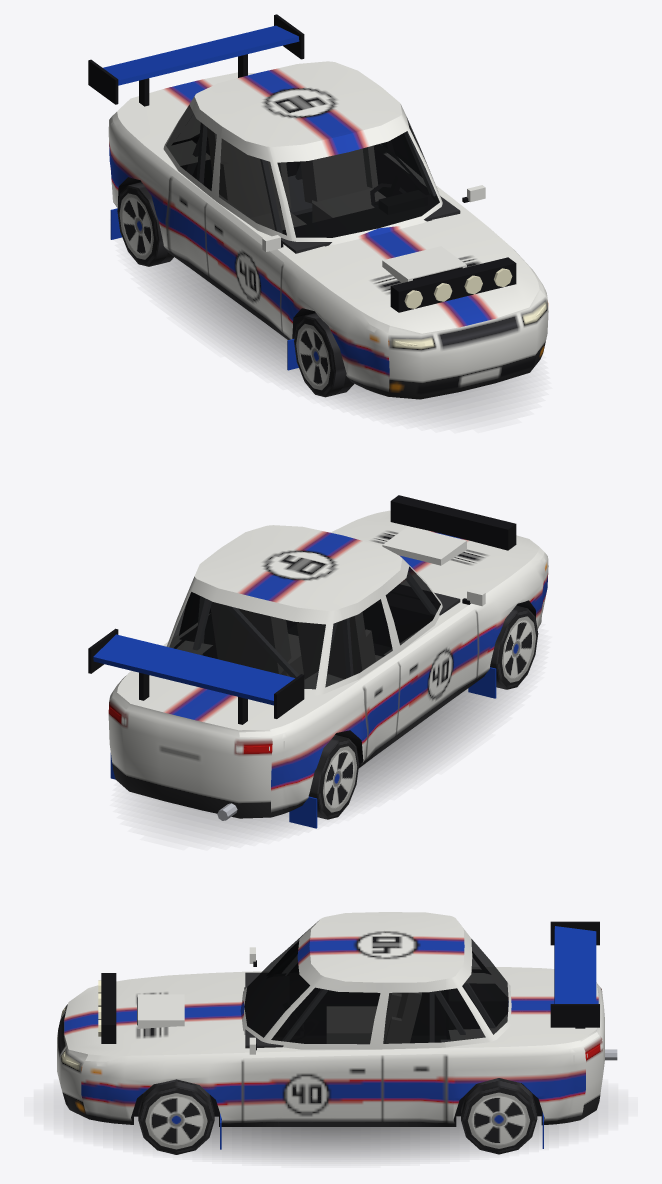
The model's file is relampago.glb.
3 views of the same model, one above another, from view 1: azimuth 30°, elevation 25°; view 2: azimuth 150°, elevation 25°; view 3: azimuth 270°, elevation 25° (orthographic). The views are drawn at different scales.
Parts seen in each view (by area): view 1: Carroceria, Capo_malha, Interior, Porta_D_malha, Sombra, Tampa_malha, Porta_TD_malha, Roda_DD, Roda_TD, Porta_E_malha; view 2: Carroceria, Interior, Tampa_malha, Capo_malha, Porta_D_malha, Sombra, Porta_TD_malha, Roda_TD, Roda_DD; view 3: Carroceria, Porta_E_malha, Interior, Capo_malha, Sombra, Porta_TE_malha, Tampa_malha, Roda_TE, Roda_DE, Porta_D_malha.
Part boxes in pixels (x1,y1,x2,y2): Carroceria: (88,14,548,399); Capo_malha: (302,220,544,333); Interior: (172,123,460,253); Porta_D_malha: (205,127,291,330); Sombra: (147,257,523,417); Tampa_malha: (103,25,299,137); Porta_TD_malha: (167,99,222,273); Roda_DD: (294,313,353,397); Roda_TD: (117,182,173,266); Porta_E_malha: (391,104,485,203); Carroceria: (88,519,548,828); Interior: (174,571,460,678); Tampa_malha: (93,634,310,737); Capo_malha: (335,495,544,594); Porta_D_malha: (382,558,485,732); Sombra: (139,687,513,835); Porta_TD_malha: (339,586,399,758); Roda_TD: (308,735,359,819); Roda_DD: (490,605,538,689); Carroceria: (57,912,617,1149); Porta_E_malha: (243,976,382,1120); Interior: (142,950,507,1093); Capo_malha: (69,973,228,1061); Sombra: (63,1101,598,1159); Porta_TE_malha: (382,979,445,1121); Tampa_malha: (522,926,598,1048); Roda_TE: (461,1078,537,1154); Roda_DE: (138,1079,214,1154); Porta_D_malha: (249,942,298,975).
Bounding box in the file's own units: 2.42 × 1.48 × 5.15.
14 materials, 5 textured.
